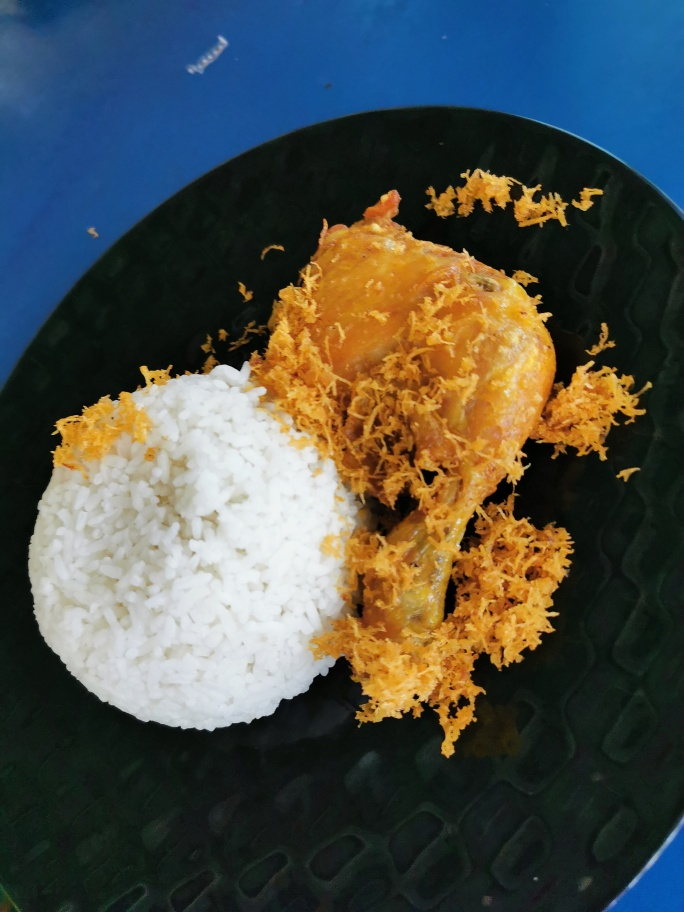ayam goreng: (276, 194, 572, 736)
nasi putih: (24, 348, 371, 752)
